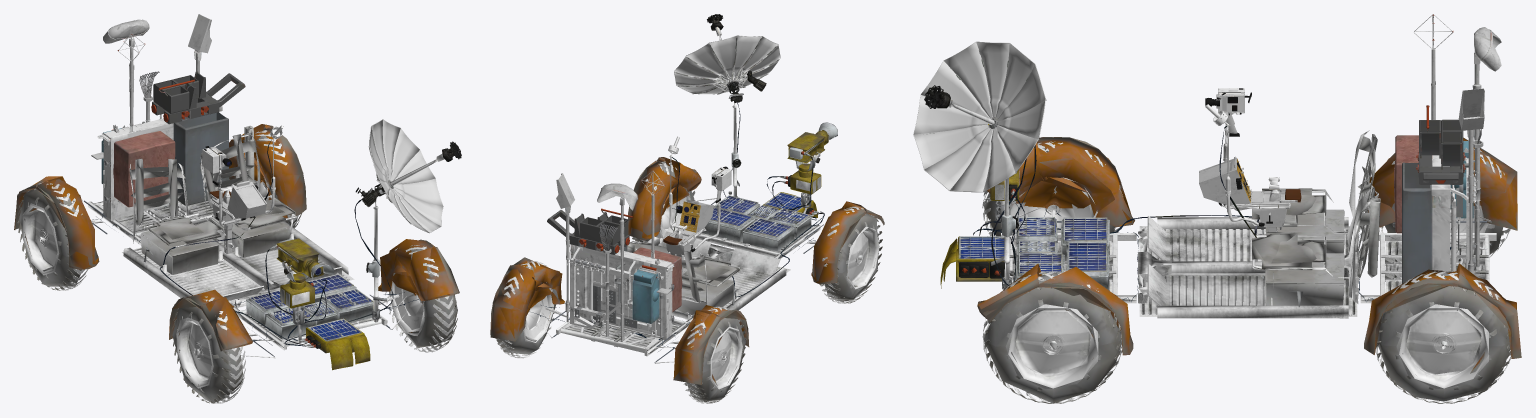
File: apollo-lrv.glb
3 renders of one model, left to right at view 1: azimuth 30°, elevation 25°; view 2: azimuth 150°, elevation 25°; view 3: azimuth 270°, elevation 25°, orthographic. The views are drawn at different scales.
Parts seen in each view (by area): view 1: apollo-lrv, wheel-fr, wheel-rr, wheel-fl, wheel-rl; view 2: apollo-lrv, wheel-rr, wheel-fr, wheel-rl, wheel-fl; view 3: apollo-lrv, wheel-fl, wheel-rl, wheel-fr, wheel-rr.
Boxes of the visible parts, x1,y1,x2,y2 form: apollo-lrv: (14,14,461,370); wheel-fr: (172,296,245,403); wheel-rr: (17,182,88,290); wheel-fl: (385,245,457,352); wheel-rl: (236,130,301,228); apollo-lrv: (490,14,884,384); wheel-rr: (683,306,746,403); wheel-fr: (820,206,882,303); wheel-rl: (495,261,558,358); wheel-fl: (632,161,695,244); apollo-lrv: (913,14,1521,358); wheel-fl: (982,271,1122,403); wheel-rl: (1375,271,1511,403); wheel-fr: (982,141,1123,243); wheel-rr: (1379,149,1510,257).
Bounding box in the file's own units: 1.75 × 1.74 × 3.02.
Materials: 9 (7 with a texture image).
